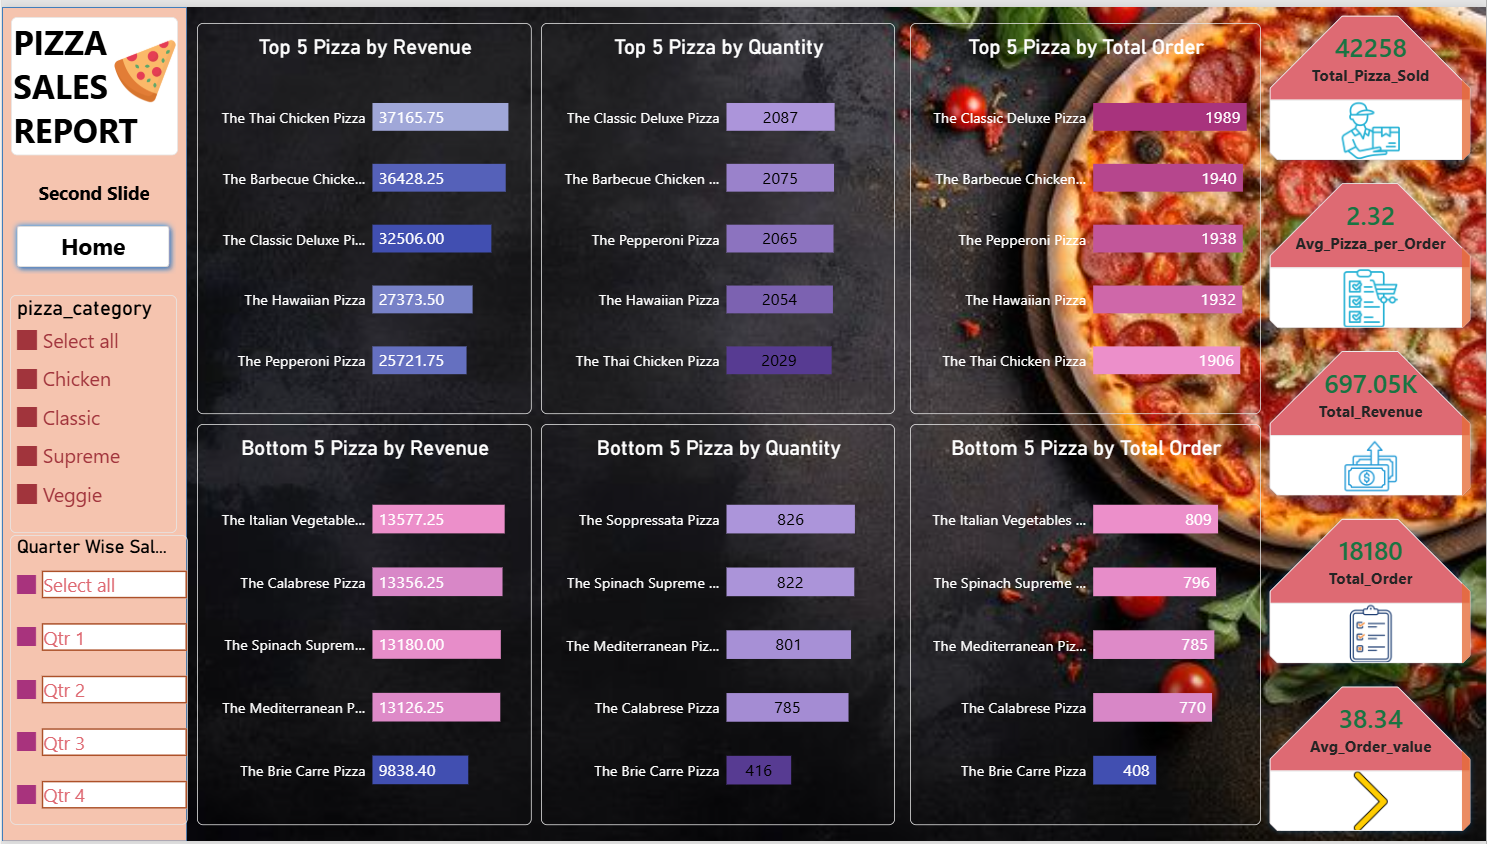

The page's visual inventory and layout, read from the dashboard file:
{"tool":"powerbi","page":{"name":"Second Slide","canvas":[1920,1080],"ordinal":1},"visuals":[{"type":"shape","box":[0,0,239.3,1079.6],"z":0},{"type":"cardVisual","fields":{"Data":["pizza_sales.Total_Pizza_Sold","pizza_sales.Avg_Pizza_per_Order","pizza_sales.Total_Revenue","pizza_sales.Total_Order","pizza_sales.Avg_Order_value"]},"box":[1628.9,0,282,1079],"z":1000},{"type":"textbox","box":[11.7,13.1,215.9,179.5],"z":2000},{"type":"image","box":[143,13.1,83.2,140.1],"z":3000},{"type":"slicer","fields":{"Values":["pizza_sales.pizza_category"]},"box":[10.2,372,215.9,307.8],"z":4000},{"type":"slicer","title":"Order Date","fields":{"Values":["pizza_sales.order_date.Variation.Date Hierarchy.Quarter"]},"box":[10,683.2,229.8,375.5],"z":5000},{"type":"clusteredBarChart","title":"Bottom 5 Pizza by Quantity","fields":{"Category":["pizza_sales.pizza_name"],"Y":["pizza_sales.Total_Pizza_Sold"]},"box":[697.4,539.8,458.1,519.4],"z":6000},{"type":"clusteredBarChart","title":"Bottom 5 Pizza by Total Order","fields":{"Category":["pizza_sales.pizza_name"],"Y":["pizza_sales.Total_Order"]},"box":[1174.5,539.8,453.7,519.4],"z":7000},{"type":"clusteredBarChart","title":"Bottom 5 Pizza by Revenue","fields":{"Category":["pizza_sales.pizza_name"],"Y":["pizza_sales.Total_Revenue"]},"box":[252.4,539.8,433,519],"z":8000},{"type":"pageNavigator","box":[10,273.8,215.9,71.5],"z":9000},{"type":"pageNavigator","box":[11.3,202.2,215.9,71.5],"z":10000},{"type":"clusteredBarChart","title":"Top 5 Pizza by Revenue","fields":{"Category":["pizza_sales.pizza_name"],"Y":["pizza_sales.Total_Revenue"]},"box":[252.4,20.4,433.3,506.3],"z":11000},{"type":"clusteredBarChart","title":"Top 5 Pizza by Quantity","fields":{"Category":["pizza_sales.pizza_name"],"Y":["pizza_sales.Total_Pizza_Sold"]},"box":[697.4,20.4,458.1,506.3],"z":12000},{"type":"clusteredBarChart","title":"Top 5 Pizza by Total Order","fields":{"Category":["pizza_sales.pizza_name"],"Y":["pizza_sales.Total_Order"]},"box":[1174.5,20.4,453.7,506.3],"z":13000}]}

Visuals, with their boxes in screenshot pixels (x1, y1, x2, y2), scaled from the page's 1920x1080 canvas onto the 1489x844 screenshot:
shape: detection(0, 0, 186, 843)
cardVisual - pizza_sales.Total_Pizza_Sold x pizza_sales.Avg_Pizza_per_Order: detection(1263, 0, 1482, 843)
textbox: detection(9, 10, 177, 151)
image: detection(111, 10, 175, 120)
slicer - pizza_sales.pizza_category: detection(8, 291, 175, 531)
"Order Date" slicer: detection(8, 534, 186, 827)
"Bottom 5 Pizza by Quantity" clusteredBarChart: detection(541, 422, 896, 828)
"Bottom 5 Pizza by Total Order" clusteredBarChart: detection(911, 422, 1263, 828)
"Bottom 5 Pizza by Revenue" clusteredBarChart: detection(196, 422, 532, 827)
pageNavigator: detection(8, 214, 175, 270)
pageNavigator: detection(9, 158, 176, 214)
"Top 5 Pizza by Revenue" clusteredBarChart: detection(196, 16, 532, 412)
"Top 5 Pizza by Quantity" clusteredBarChart: detection(541, 16, 896, 412)
"Top 5 Pizza by Total Order" clusteredBarChart: detection(911, 16, 1263, 412)
